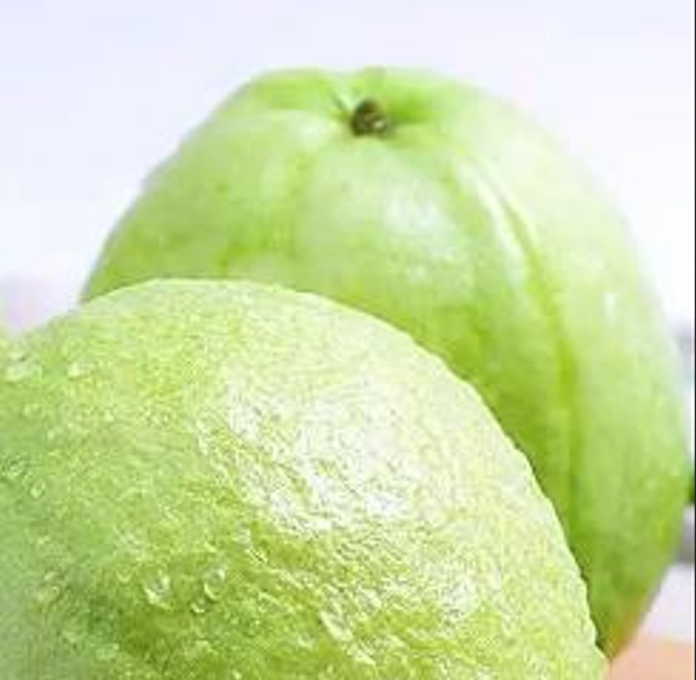guava_A: (73, 65, 690, 668)
